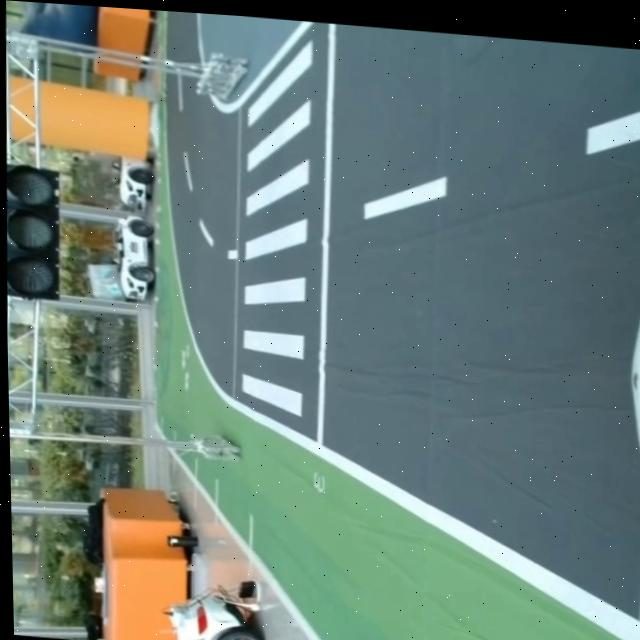traffic-light: (4, 160, 66, 306)
